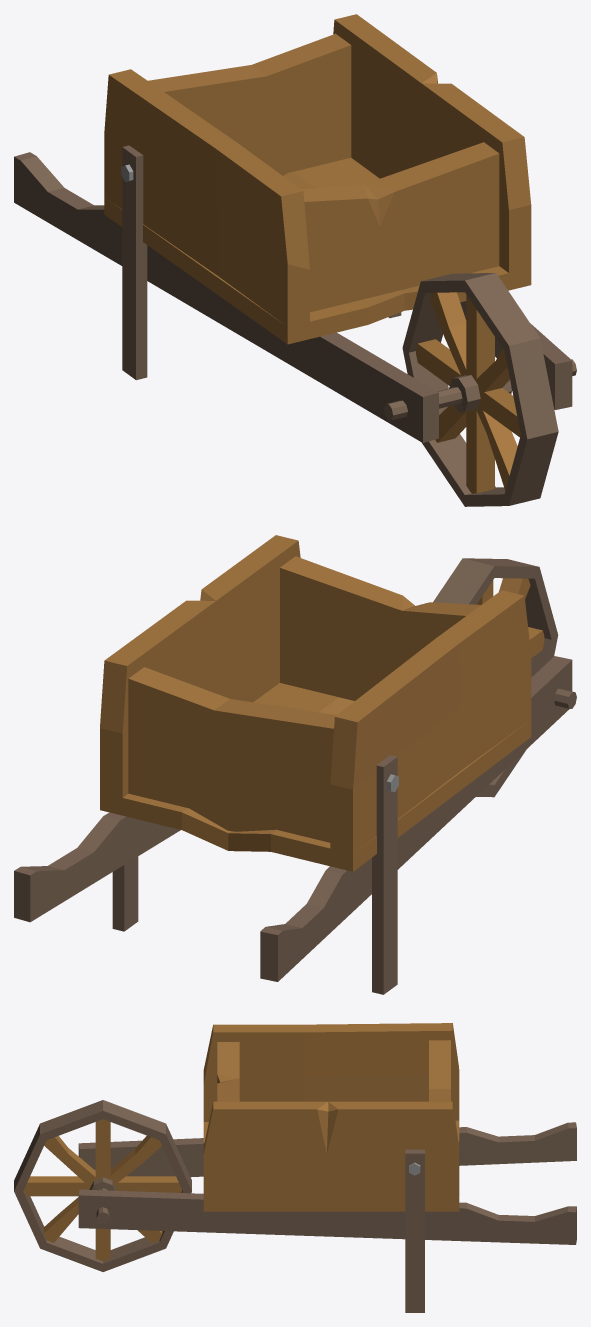
File: Mini_Cart.fbx
The picture shows the model from 3 angles, top to bottom: view 1: azimuth 30°, elevation 25°; view 2: azimuth 150°, elevation 25°; view 3: azimuth 270°, elevation 25°; orthographic projection. The views are drawn at different scales.
Visible parts, largest first — view 1: Mini_Cart; view 2: Mini_Cart; view 3: Mini_Cart.
Boxes of the visible parts, box(x1,y1,x2,y2) form: Mini_Cart: box(14, 14, 576, 506); Mini_Cart: box(14, 535, 576, 994); Mini_Cart: box(14, 1023, 576, 1312).
Bounding box in the file's own units: 98.37 × 246 × 96.15.
